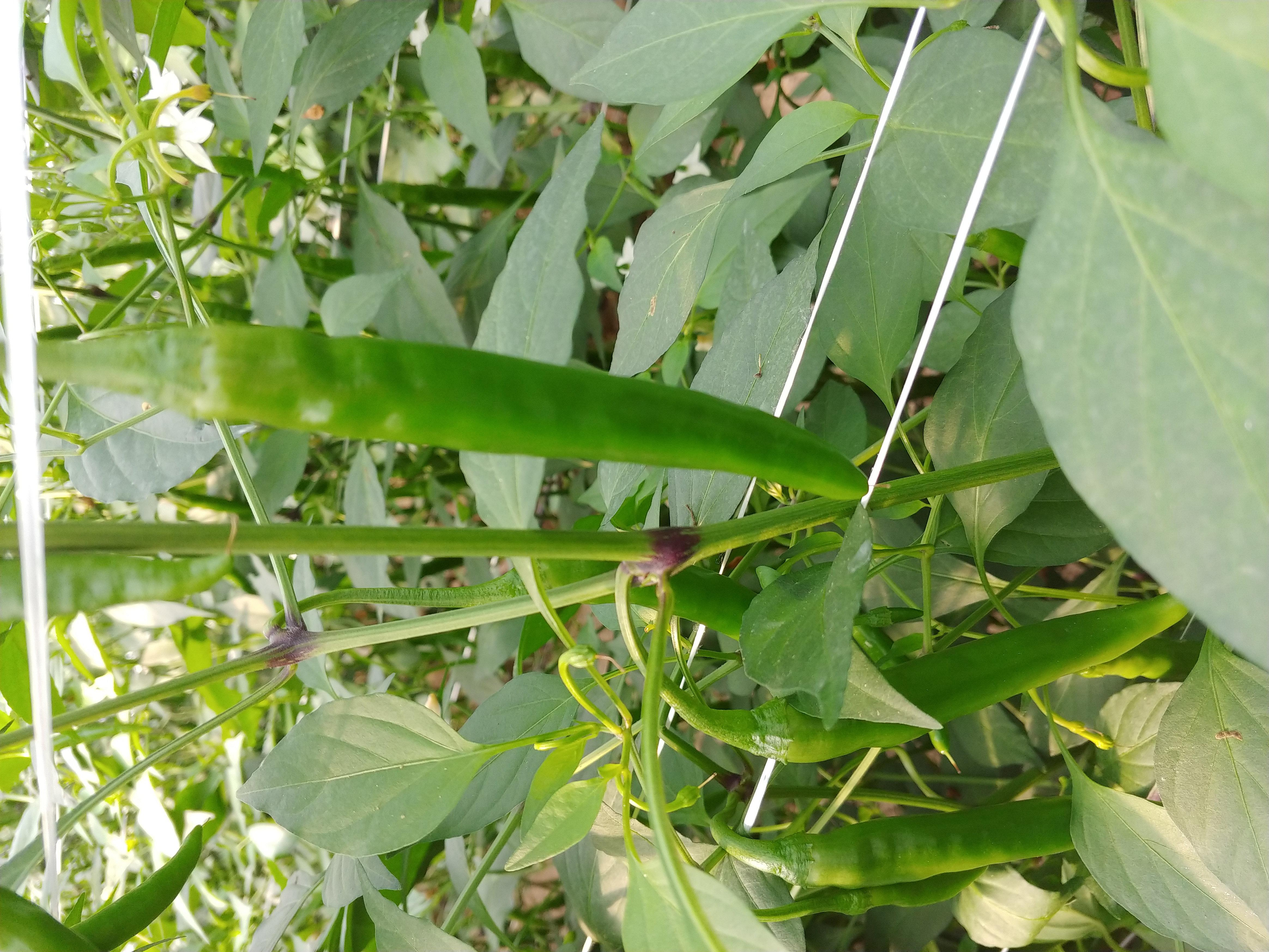Buah Cabai Sehat: (35, 318, 873, 505), (739, 588, 1188, 772), (768, 796, 1099, 892)
Daun Cabai Sehat: (1011, 94, 1269, 684), (228, 685, 481, 865), (1064, 774, 1269, 952), (1154, 644, 1269, 934), (616, 181, 715, 379)
